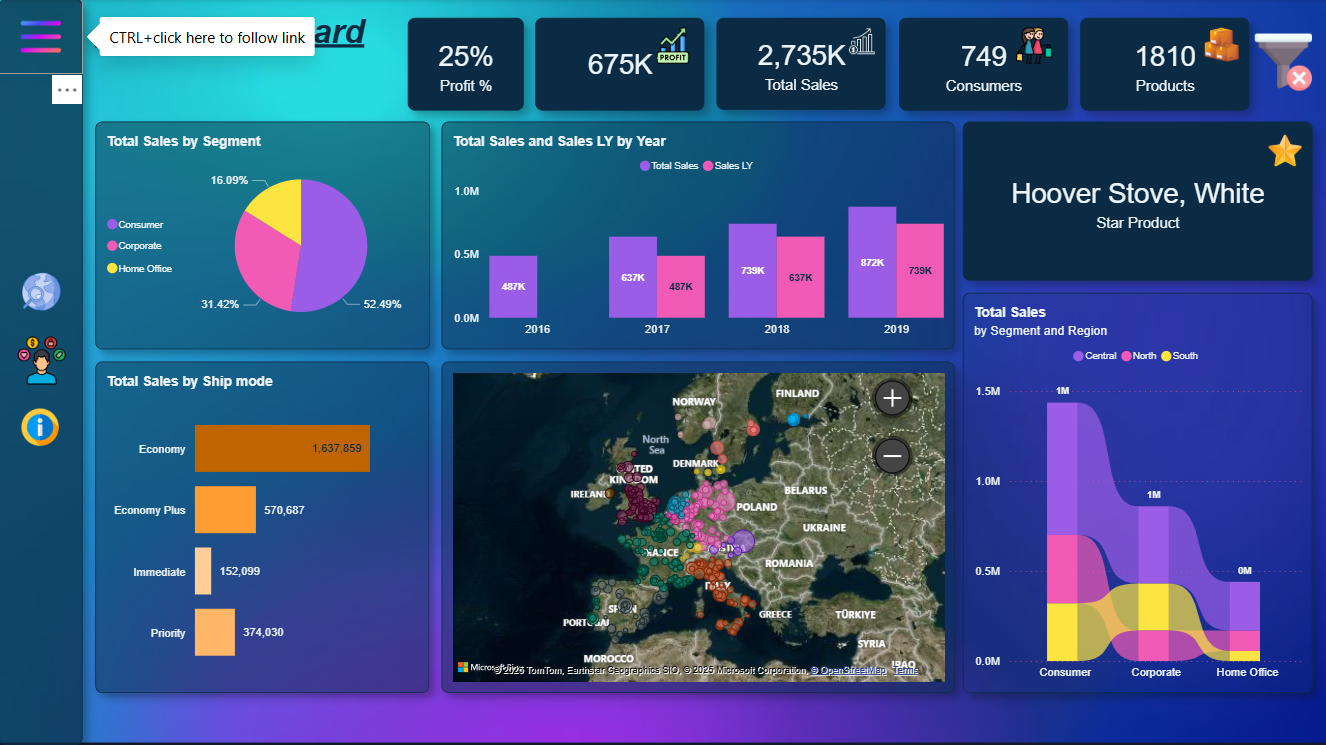

This screenshot's page, from the dashboard's own definition file:
{"tool":"powerbi","page":{"name":"Home","canvas":[1280,720],"ordinal":0},"visuals":[{"type":"textbox","box":[93.2,13.6,360.4,45],"z":0},{"type":"shape","box":[0,0,80.6,719.9],"z":1000},{"type":"image","box":[0,0,80.6,72.3],"z":2000},{"type":"card","fields":{"Values":["#Measures.Consumers"]},"box":[868.1,17.6,163.4,89.5],"z":3000},{"type":"card","fields":{"Values":["#Measures.Products"]},"box":[1043.1,17.6,163.4,89.5],"z":4000},{"type":"image","box":[1199,22.7,81,75.3],"z":5000},{"type":"image","box":[1153.4,16,52.9,56.6],"z":6000},{"type":"image","box":[966.5,17.2,65.2,55.3],"z":7000},{"type":"card","fields":{"Values":["#Measures.Profit %"]},"box":[394.2,17.6,111.9,89.8],"z":8000},{"type":"card","fields":{"Values":["#Measures.Total Profit"]},"box":[517.7,18,163.5,89.8],"z":9000},{"type":"card","fields":{"Values":["#Measures.Total Sales"]},"box":[692.9,17.6,163.5,88.5],"z":10000},{"type":"image","box":[0,247.9,81,69.9],"z":11000},{"type":"image","box":[807.7,17.8,48.2,45],"z":12000},{"type":"image","box":[619.7,17.2,61.5,55.3],"z":13000},{"type":"pieChart","fields":{"Category":["dsegment.Segment"],"Y":["#Measures.Total Sales"]},"box":[92.9,118.2,323.2,220.2],"z":14000},{"type":"clusteredColumnChart","fields":{"Y":["#Measures.Total Sales","#Measures.Sales LY"],"Category":["DateTable.Year"]},"box":[427.3,118.2,494.9,220.2],"z":15000},{"type":"barChart","fields":{"Y":["#Measures.Total Sales"],"Category":["dshipmode.Ship mode"]},"box":[93.4,350.4,322.2,319.7],"z":16000},{"type":"card","fields":{"Values":["#Measures.Star Product"]},"box":[930.1,117.8,337.4,153.4],"z":17000},{"type":"image","box":[1214.7,117.8,52.8,56.4],"z":18000},{"type":"map","fields":{"Y":["dregion.lat"],"X":["dregion.lon"],"Series":["dregion.Country"],"Size":["#Measures.Total Sales"]},"box":[426.7,350.4,495.5,319.7],"z":20000},{"type":"ribbonChart","fields":{"Y":["#Measures.Total Sales"],"Category":["dsegment.Segment"],"Series":["dregion.Region"]},"box":[930.1,283.4,337.4,386.5],"z":21000},{"type":"image","box":[9.8,385.3,60.1,56.4],"z":22000},{"type":"image","box":[4.9,312.9,72.4,72.4],"z":23000}]}

Visuals, with their boxes on the page's 1280x720 design canvas (x1, y1, x2, y2). These are canvas units, not pixel positions in the 1326x745 screenshot, which may show the page scaled, cropped or inside an application window:
textbox: {"left": 93, "top": 14, "right": 454, "bottom": 59}
shape: {"left": 0, "top": 0, "right": 81, "bottom": 720}
image: {"left": 0, "top": 0, "right": 81, "bottom": 72}
card - #Measures.Consumers: {"left": 868, "top": 18, "right": 1032, "bottom": 107}
card - #Measures.Products: {"left": 1043, "top": 18, "right": 1206, "bottom": 107}
image: {"left": 1199, "top": 23, "right": 1280, "bottom": 98}
image: {"left": 1153, "top": 16, "right": 1206, "bottom": 73}
image: {"left": 966, "top": 17, "right": 1032, "bottom": 72}
card - #Measures.Profit %: {"left": 394, "top": 18, "right": 506, "bottom": 107}
card - #Measures.Total Profit: {"left": 518, "top": 18, "right": 681, "bottom": 108}
card - #Measures.Total Sales: {"left": 693, "top": 18, "right": 856, "bottom": 106}
image: {"left": 0, "top": 248, "right": 81, "bottom": 318}
image: {"left": 808, "top": 18, "right": 856, "bottom": 63}
image: {"left": 620, "top": 17, "right": 681, "bottom": 72}
pieChart - dsegment.Segment x #Measures.Total Sales: {"left": 93, "top": 118, "right": 416, "bottom": 338}
clusteredColumnChart - #Measures.Total Sales x #Measures.Sales LY: {"left": 427, "top": 118, "right": 922, "bottom": 338}
barChart - #Measures.Total Sales x dshipmode.Ship mode: {"left": 93, "top": 350, "right": 416, "bottom": 670}
card - #Measures.Star Product: {"left": 930, "top": 118, "right": 1268, "bottom": 271}
image: {"left": 1215, "top": 118, "right": 1268, "bottom": 174}
map - dregion.lat x dregion.lon: {"left": 427, "top": 350, "right": 922, "bottom": 670}
ribbonChart - #Measures.Total Sales x dsegment.Segment: {"left": 930, "top": 283, "right": 1268, "bottom": 670}
image: {"left": 10, "top": 385, "right": 70, "bottom": 442}
image: {"left": 5, "top": 313, "right": 77, "bottom": 385}
